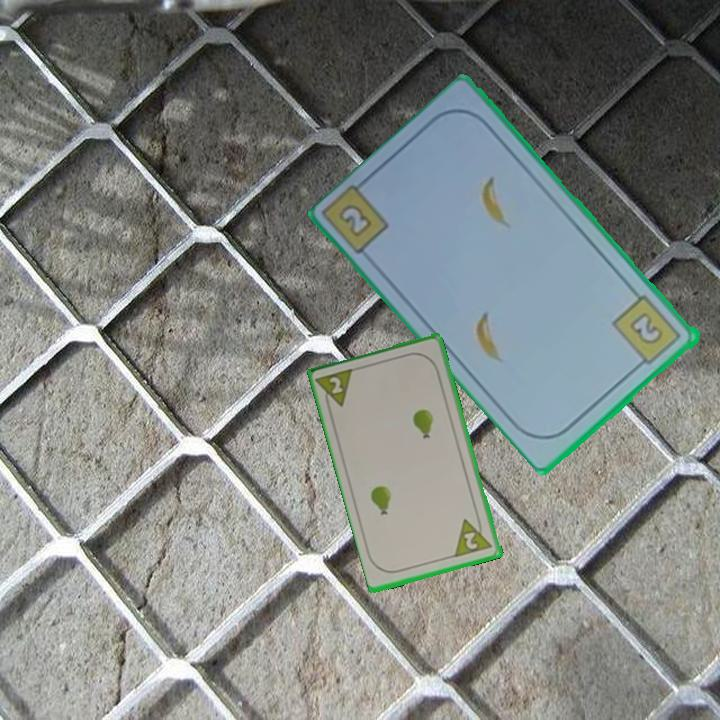2b: (609, 291, 685, 372), (335, 200, 376, 240)
2p: (314, 365, 358, 414), (452, 512, 496, 560)
